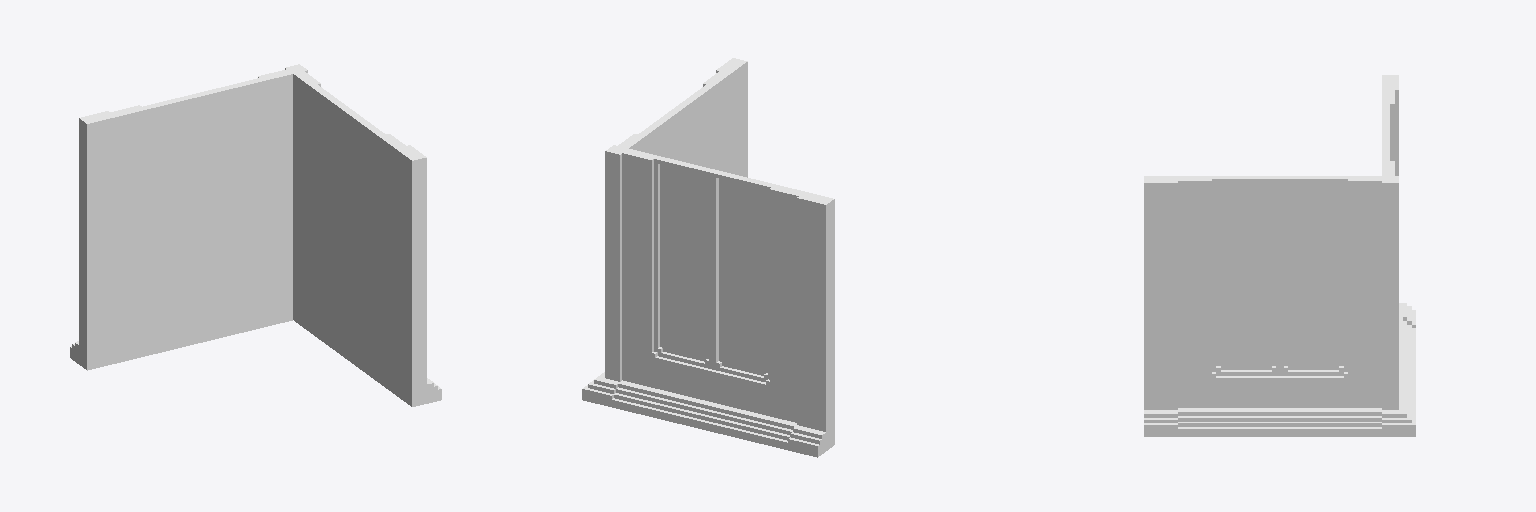
The model's file is old_brick_peach_wall_b_corner.obj.
The picture shows the model from 3 angles: view 1: azimuth 30°, elevation 25°; view 2: azimuth 150°, elevation 25°; view 3: azimuth 270°, elevation 25°; orthographic projection.
Size of the model in its own units: 64 by 64 by 64.